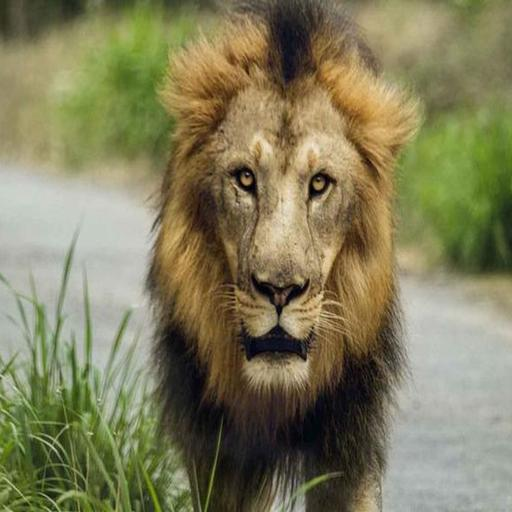Lion: (125, 0, 428, 512)
